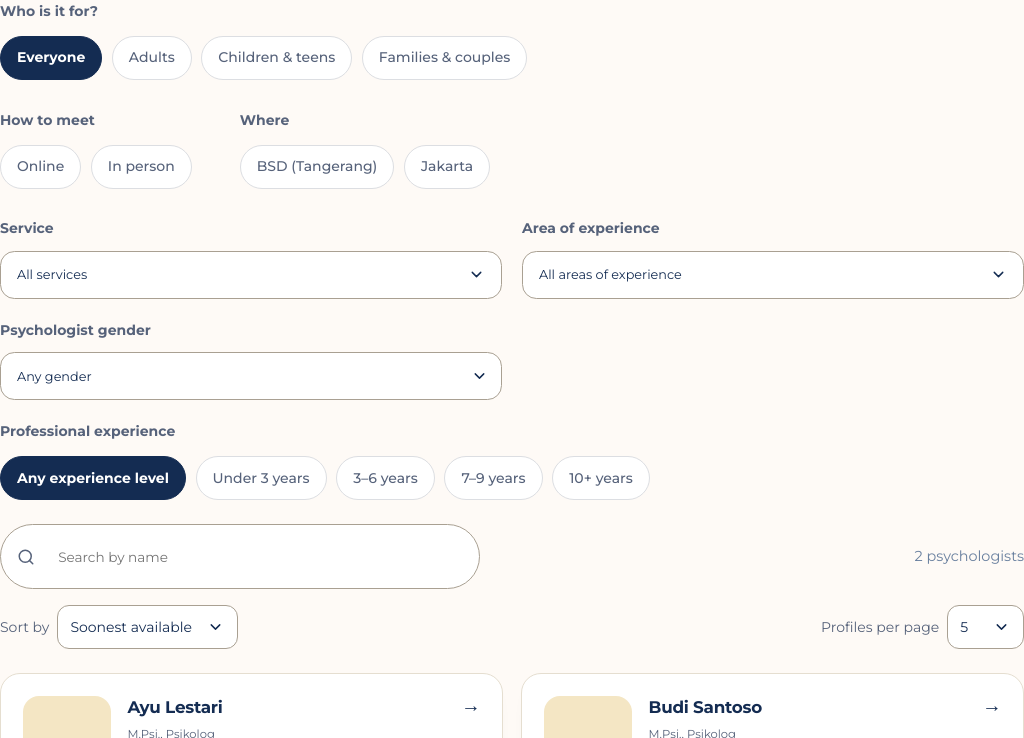
Scenario: PsychologistSearch › combines a case-insensitive name search with published areas and clears both
This screenshot has width=1024, height=738.
Check: the heading "Ayu Lestari →" is shown, box [127,696,480,720]
Type "  BUDI  " into the search field labelled "Search by name" at (255, 557), box [46,535,463,579]
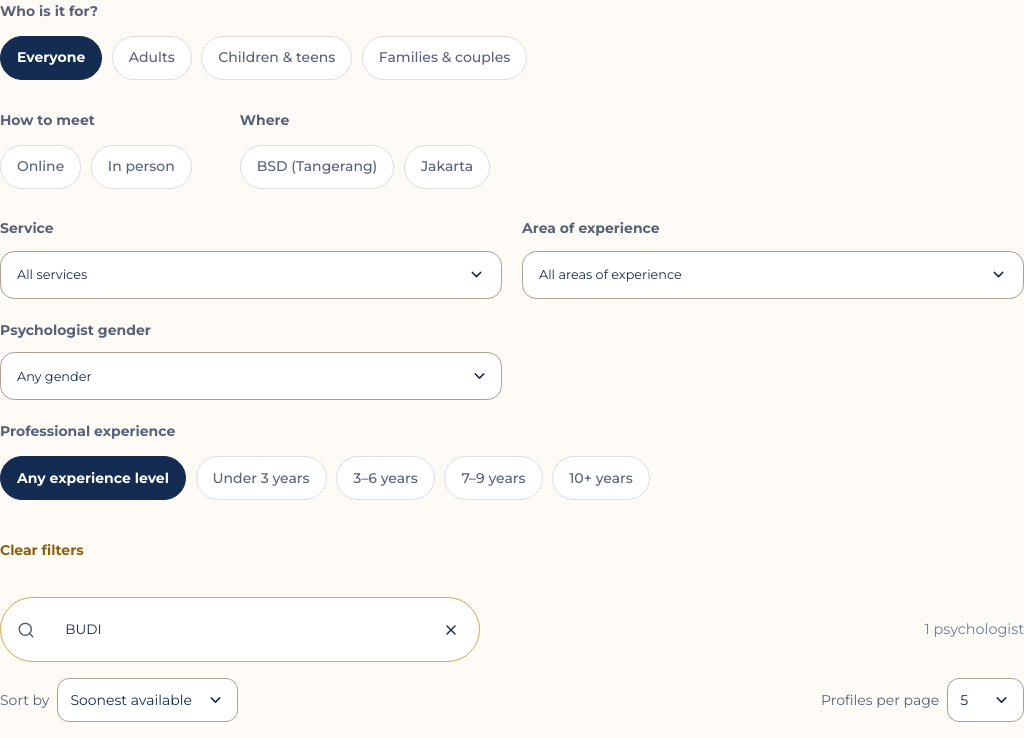
Check: the link "Ayu Lestari" is gone
Click the heading "All areas of experience" at (610, 275), box [522,251,1023,299]
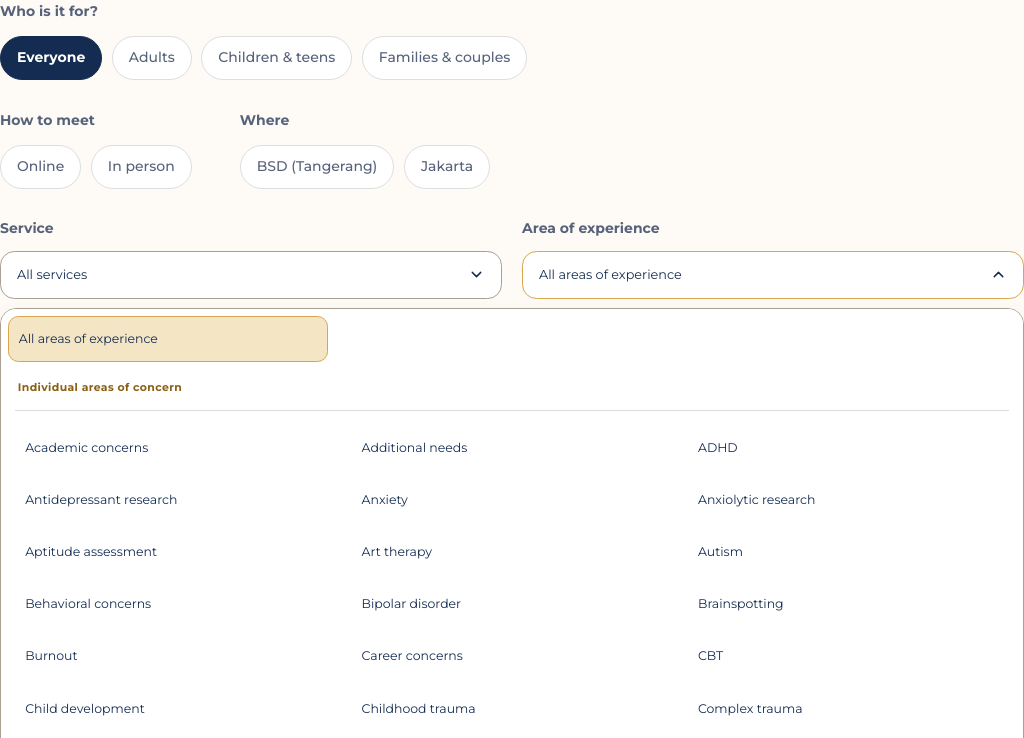
Click the button "Complex trauma" at (750, 708), box [687,686,1009,732]
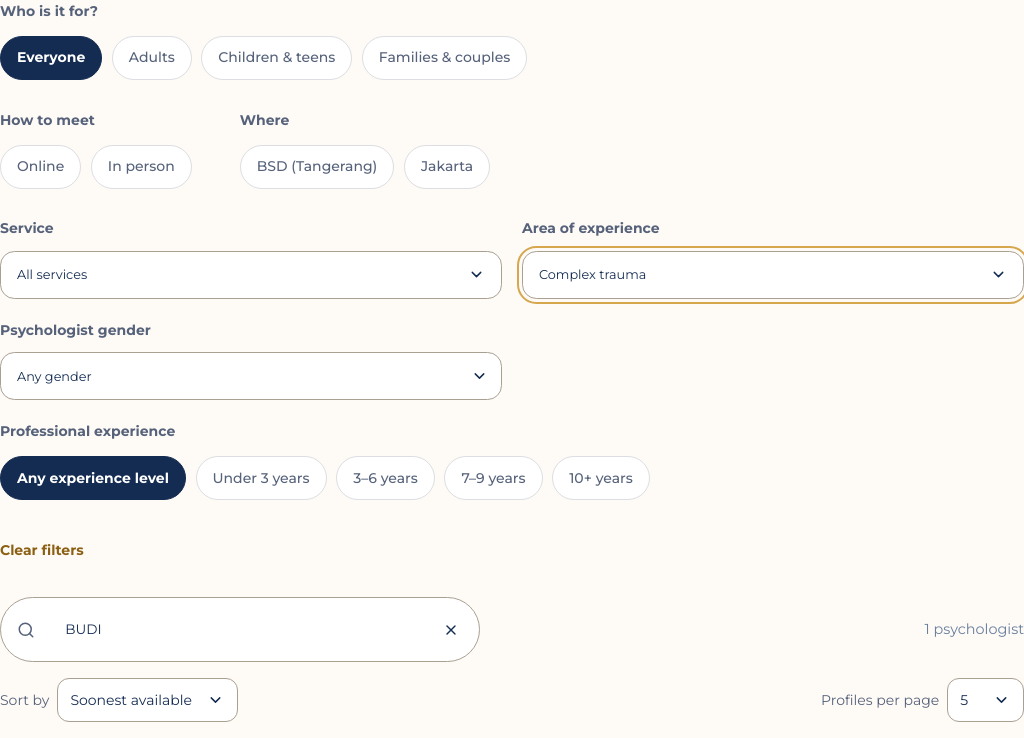
Click the heading "Complex trauma" at (593, 275), box [522,251,1023,299]
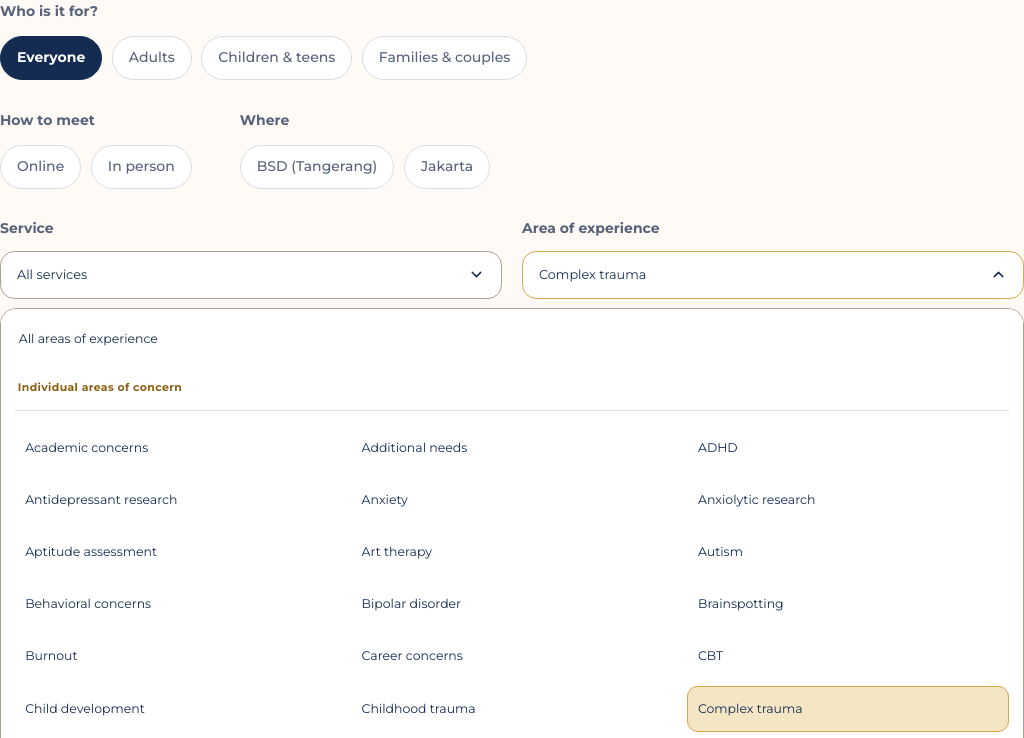
Click the button "ADHD" at (718, 447), box [687,425,1009,471]
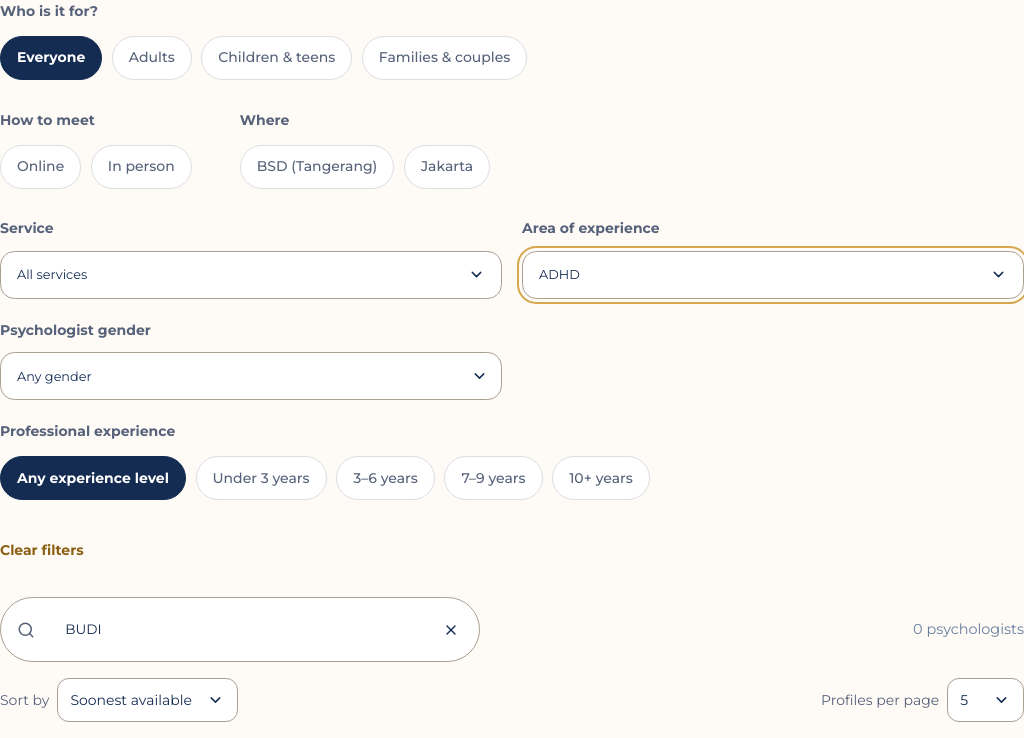
Click the button "Clear filters" at (42, 551), box [0,529,84,573]
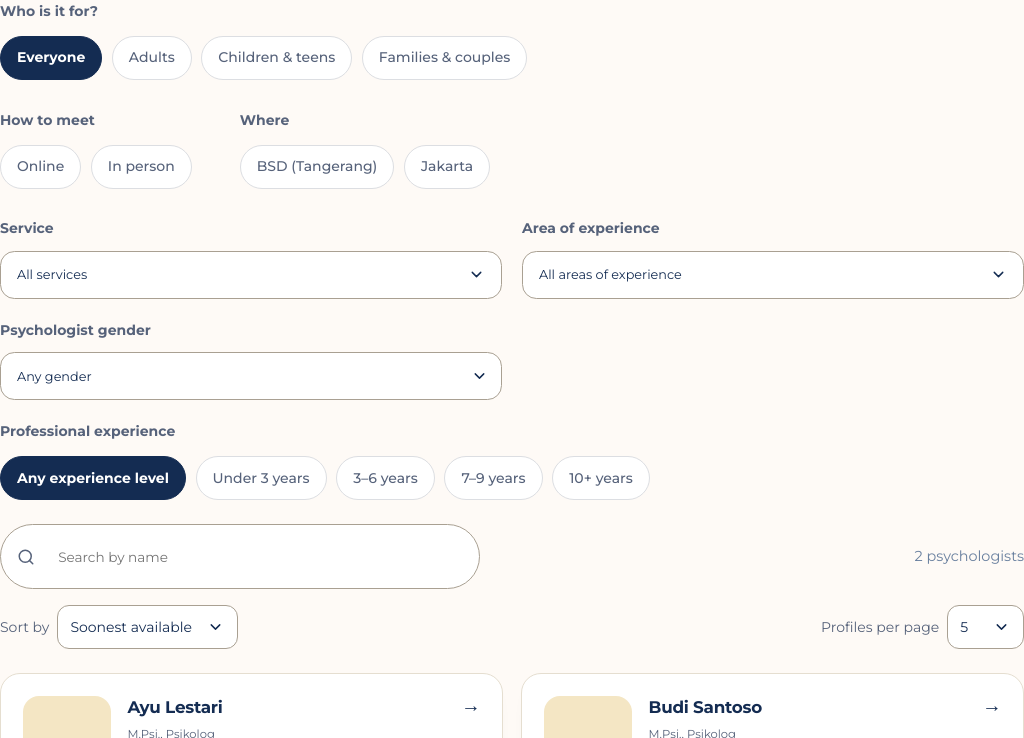
Check: the search field is empty, box [46,535,463,579]
Check: the text "All areas of experience" is shown, box [539,264,682,285]
